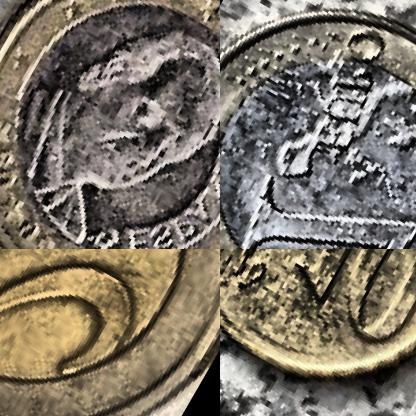coin: (0, 0, 219, 248), (220, 0, 415, 248), (0, 249, 219, 415), (220, 249, 415, 415)
